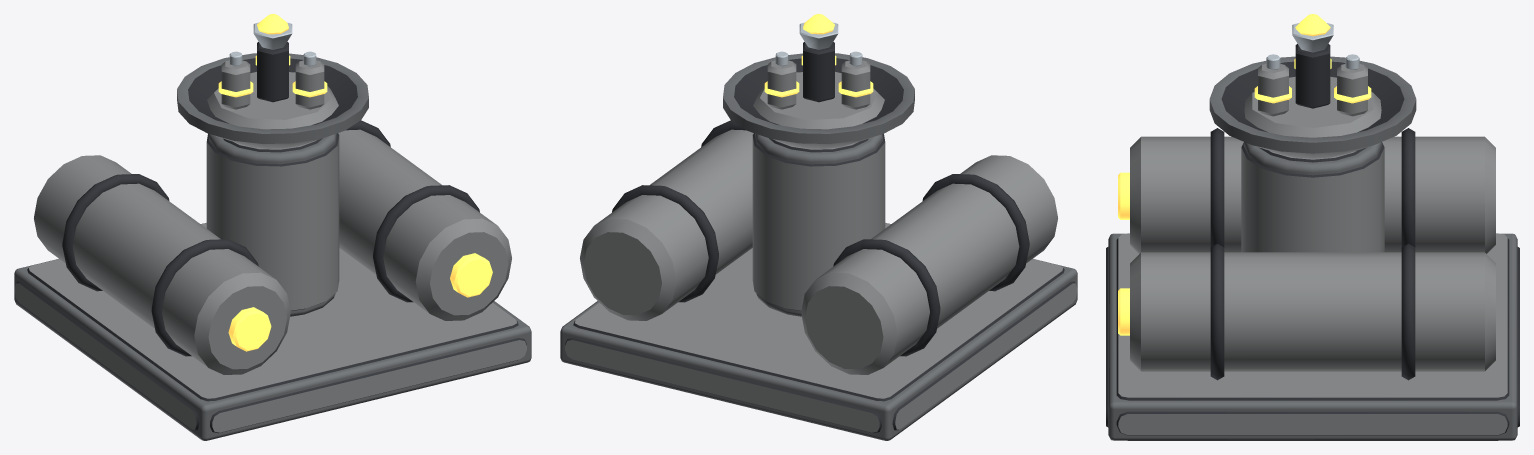
Rendered from R4X_BurnTrapDeployer.glb.
3 renders of one model, left to right at view 1: azimuth 30°, elevation 25°; view 2: azimuth 150°, elevation 25°; view 3: azimuth 270°, elevation 25°, orthographic. The views are drawn at different scales.
Visible parts, largest first — view 1: R4X_BurnTrapDeployer_Body; view 2: R4X_BurnTrapDeployer_Body; view 3: R4X_BurnTrapDeployer_Body.
Boxes of the visible parts, <box> form: R4X_BurnTrapDeployer_Body: <box>14,14,531,440</box>; R4X_BurnTrapDeployer_Body: <box>560,14,1077,440</box>; R4X_BurnTrapDeployer_Body: <box>1106,14,1519,440</box>.
Size of the model in its own units: 0.52 by 0.476 by 0.52.
